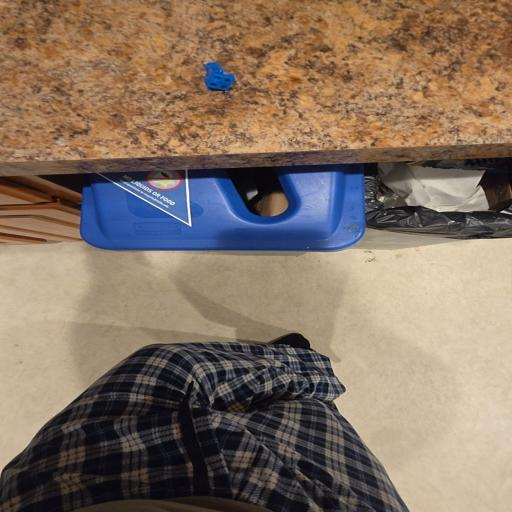Blue: (204, 62, 235, 90)
